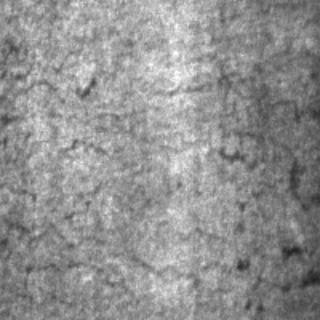crazing: (0, 27, 206, 156), (200, 45, 316, 206), (0, 170, 136, 304)
